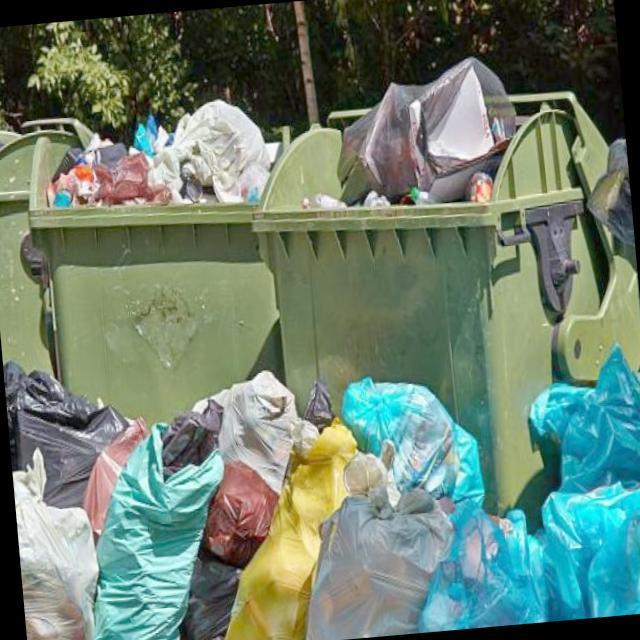garbage: (327, 37, 525, 229), (95, 416, 235, 640), (337, 353, 488, 518), (412, 490, 560, 632), (151, 80, 289, 226), (302, 483, 424, 640), (11, 453, 110, 640), (2, 348, 120, 502), (525, 342, 640, 482), (539, 468, 640, 620), (210, 354, 310, 500), (50, 125, 163, 223)
